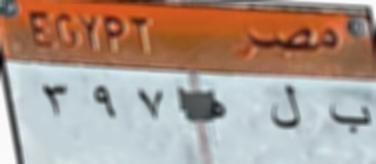3: (40, 81, 74, 124)
7: (134, 88, 170, 120)
9: (85, 84, 120, 123)
baa: (325, 97, 374, 136)
laam: (265, 80, 307, 135)
